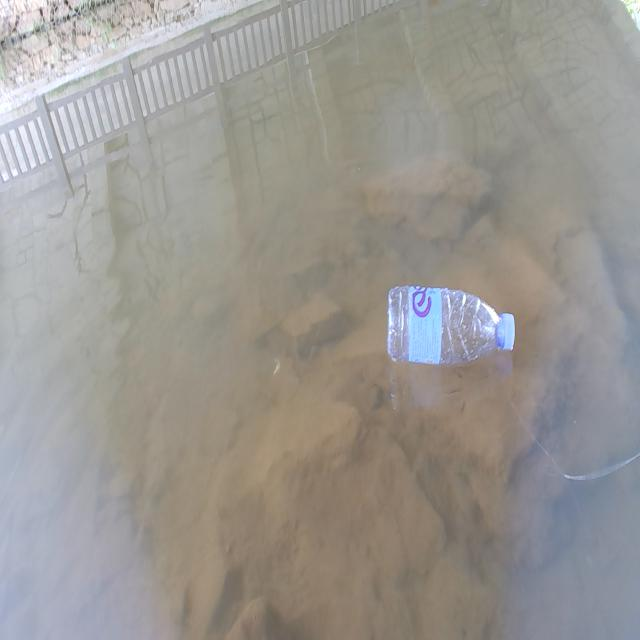bottle: (367, 254, 530, 393)
